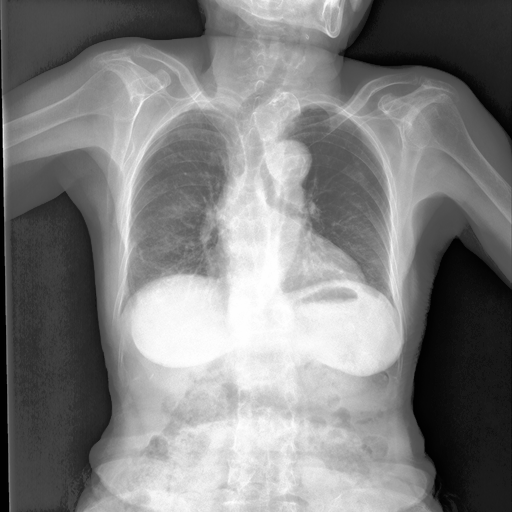Cardiomegaly: (125, 213, 200, 279), (350, 206, 392, 297)
Consolidation: (264, 136, 316, 193)
Lung Opacity: (231, 141, 313, 184)
Nodule/Mass: (204, 224, 374, 298)
Pulmonary fibrosis: (247, 85, 303, 133)
